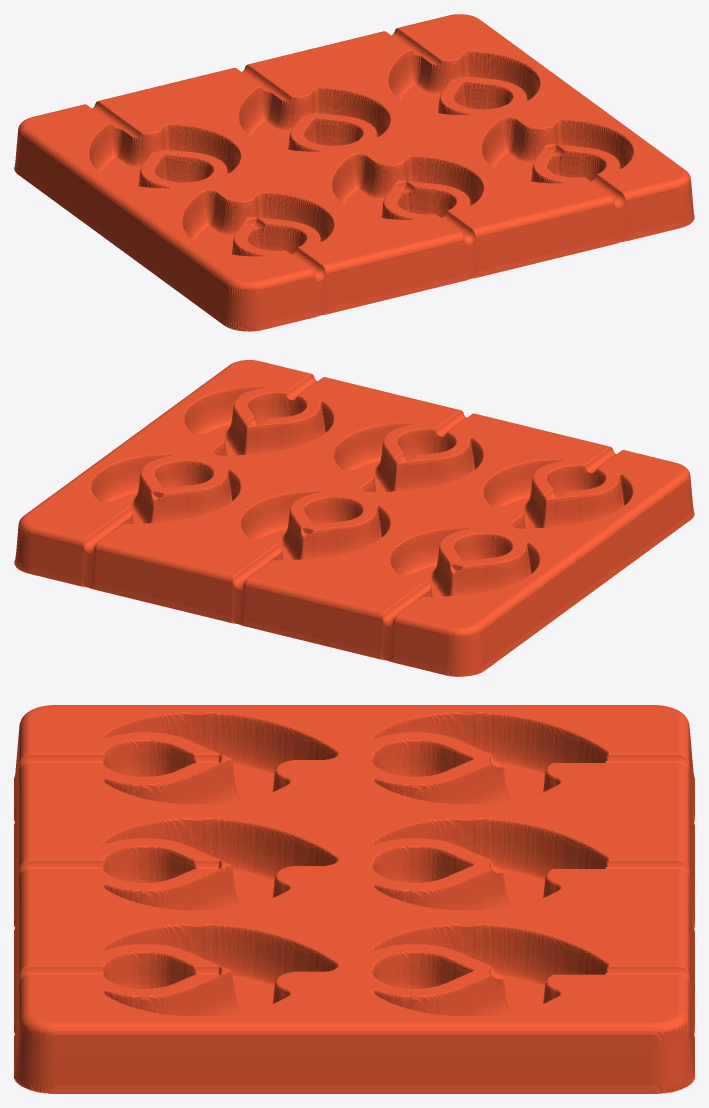
File: mold.glb
3 renders of one model, top to bottom at view 1: azimuth 30°, elevation 25°; view 2: azimuth 150°, elevation 25°; view 3: azimuth 270°, elevation 25°, orthographic. The views are drawn at different scales.
Parts seen in each view (by area): view 1: geometry_0; view 2: geometry_0; view 3: geometry_0.
Part boxes in pixels (x1,y1,x2,y2): geometry_0: (14,14,694,331); geometry_0: (14,360,694,676); geometry_0: (14,705,694,1093).
Size of the model in its own units: 0.1695 by 0.0155 by 0.1477.
